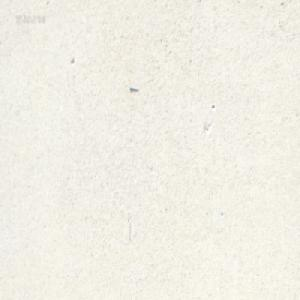Nail: (128, 85, 138, 91)
